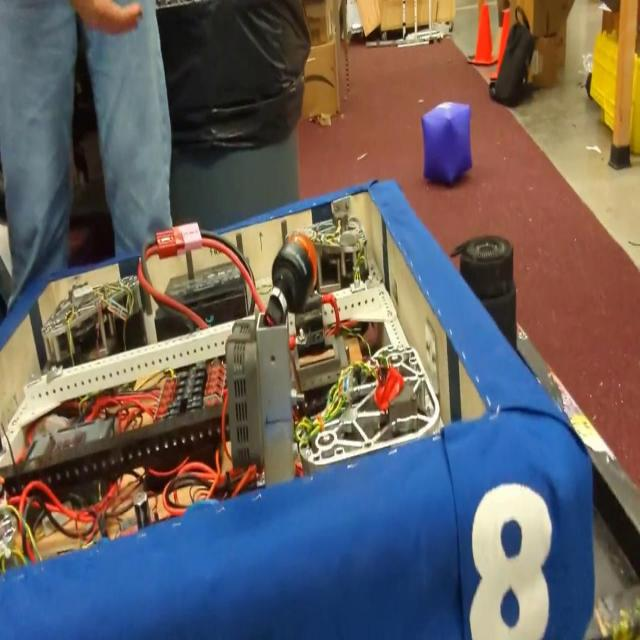frc_cube: (422, 98, 472, 186)
